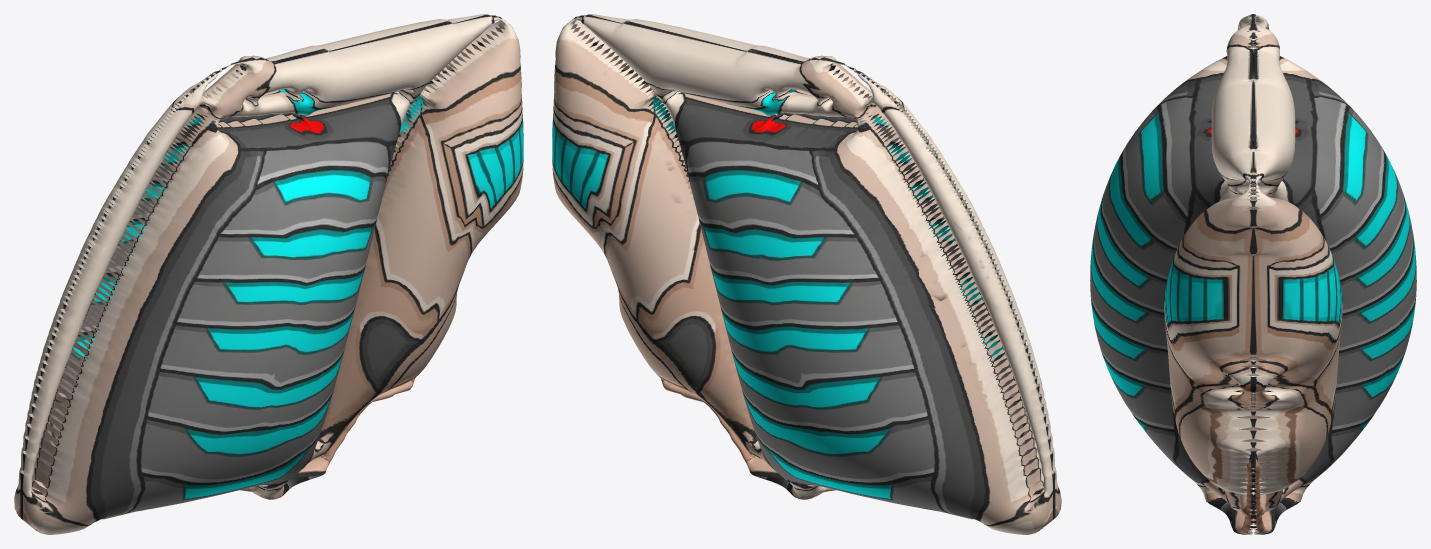
The model's file is side_access_stair.glb.
3 views of the same model, side by side, from view 1: azimuth 30°, elevation 25°; view 2: azimuth 150°, elevation 25°; view 3: azimuth 270°, elevation 25° (orthographic). The views are drawn at different scales.
Visible parts, largest first — view 1: side_access_stair; view 2: side_access_stair; view 3: side_access_stair.
Part boxes in pixels (x1,y1,x2,y2): side_access_stair: [14, 14, 523, 534]; side_access_stair: [552, 14, 1061, 534]; side_access_stair: [1090, 14, 1416, 534].
Bounding box in the file's own units: 0.989 × 0.8172 × 0.5153.
1 material, 1 textured.
